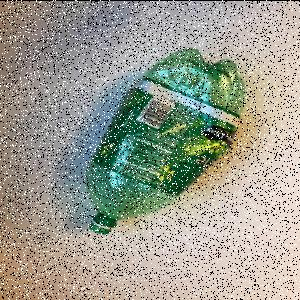Plastic-bottle: (84, 48, 246, 236)
